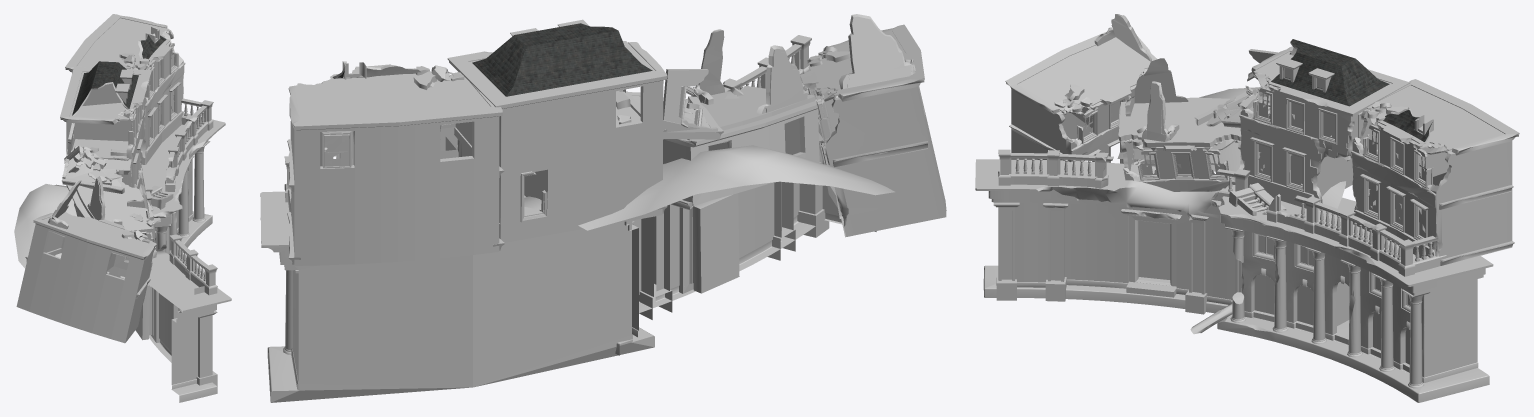
File: Boss_Buildingad.fbx
The picture shows the model from 3 angles, left to right: view 1: azimuth 30°, elevation 25°; view 2: azimuth 150°, elevation 25°; view 3: azimuth 270°, elevation 25°; orthographic projection. The views are drawn at different scales.
Visible parts, largest first — view 1: LODGroup_1_MainMesh_1_SubMesh_2, LODGroup_1_MainMesh_1_SubMesh_5, LODGroup_1_MainMesh_1_SubMesh_4, LODGroup_1_MainMesh_1_SubMesh_8, LODGroup_1_MainMesh_1_SubMesh_7, LODGroup_1_MainMesh_1_SubMesh_1, LODGroup_1_MainMesh_1_SubMesh_6, LODGroup_1_MainMesh_1_SubMesh_3; view 2: LODGroup_1_MainMesh_1_SubMesh_2, LODGroup_1_MainMesh_1_SubMesh_5, LODGroup_1_MainMesh_1_SubMesh_7, LODGroup_1_MainMesh_1_SubMesh_4, LODGroup_1_MainMesh_1_SubMesh_1, LODGroup_1_MainMesh_1_SubMesh_6, LODGroup_1_MainMesh_1_SubMesh_8, LODGroup_1_MainMesh_1_SubMesh_3; view 3: LODGroup_1_MainMesh_1_SubMesh_2, LODGroup_1_MainMesh_1_SubMesh_4, LODGroup_1_MainMesh_1_SubMesh_5, LODGroup_1_MainMesh_1_SubMesh_7, LODGroup_1_MainMesh_1_SubMesh_8, LODGroup_1_MainMesh_1_SubMesh_6, LODGroup_1_MainMesh_1_SubMesh_3, LODGroup_1_MainMesh_1_SubMesh_1.
Boxes of the visible parts, box(x1,y1,x2,y2) form: LODGroup_1_MainMesh_1_SubMesh_2: box(16, 29, 231, 402); LODGroup_1_MainMesh_1_SubMesh_5: box(14, 14, 205, 342); LODGroup_1_MainMesh_1_SubMesh_4: box(33, 14, 217, 389); LODGroup_1_MainMesh_1_SubMesh_8: box(143, 103, 215, 286); LODGroup_1_MainMesh_1_SubMesh_7: box(45, 31, 172, 329); LODGroup_1_MainMesh_1_SubMesh_1: box(72, 34, 166, 115); LODGroup_1_MainMesh_1_SubMesh_6: box(115, 69, 217, 385); LODGroup_1_MainMesh_1_SubMesh_3: box(126, 49, 190, 260); LODGroup_1_MainMesh_1_SubMesh_2: box(260, 46, 946, 402); LODGroup_1_MainMesh_1_SubMesh_5: box(287, 14, 946, 264); LODGroup_1_MainMesh_1_SubMesh_7: box(291, 16, 934, 240); LODGroup_1_MainMesh_1_SubMesh_4: box(279, 24, 924, 388); LODGroup_1_MainMesh_1_SubMesh_1: box(338, 23, 652, 96); LODGroup_1_MainMesh_1_SubMesh_6: box(510, 19, 829, 319); LODGroup_1_MainMesh_1_SubMesh_8: box(283, 46, 808, 354); LODGroup_1_MainMesh_1_SubMesh_3: box(323, 105, 824, 168); LODGroup_1_MainMesh_1_SubMesh_2: box(975, 66, 1493, 402); LODGroup_1_MainMesh_1_SubMesh_4: box(988, 29, 1518, 382); LODGroup_1_MainMesh_1_SubMesh_5: box(1005, 14, 1519, 332); LODGroup_1_MainMesh_1_SubMesh_7: box(1015, 14, 1506, 250); LODGroup_1_MainMesh_1_SubMesh_8: box(1000, 158, 1438, 388); LODGroup_1_MainMesh_1_SubMesh_6: box(993, 57, 1334, 314); LODGroup_1_MainMesh_1_SubMesh_3: box(1083, 68, 1426, 338); LODGroup_1_MainMesh_1_SubMesh_1: box(1271, 39, 1432, 141).
Bounding box in the file's own units: 4479 × 2838 × 5346.
